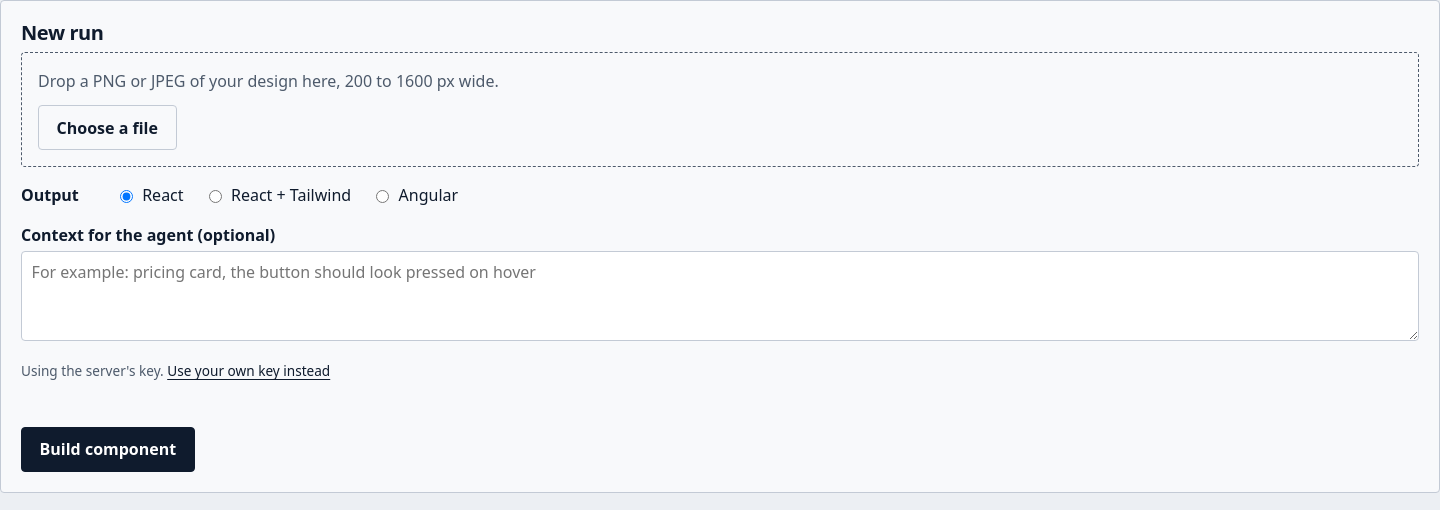
UploadForm › asks for a design before starting
Click the button "Build component" at (108, 449), box x1=21 y1=427 x2=195 y2=472
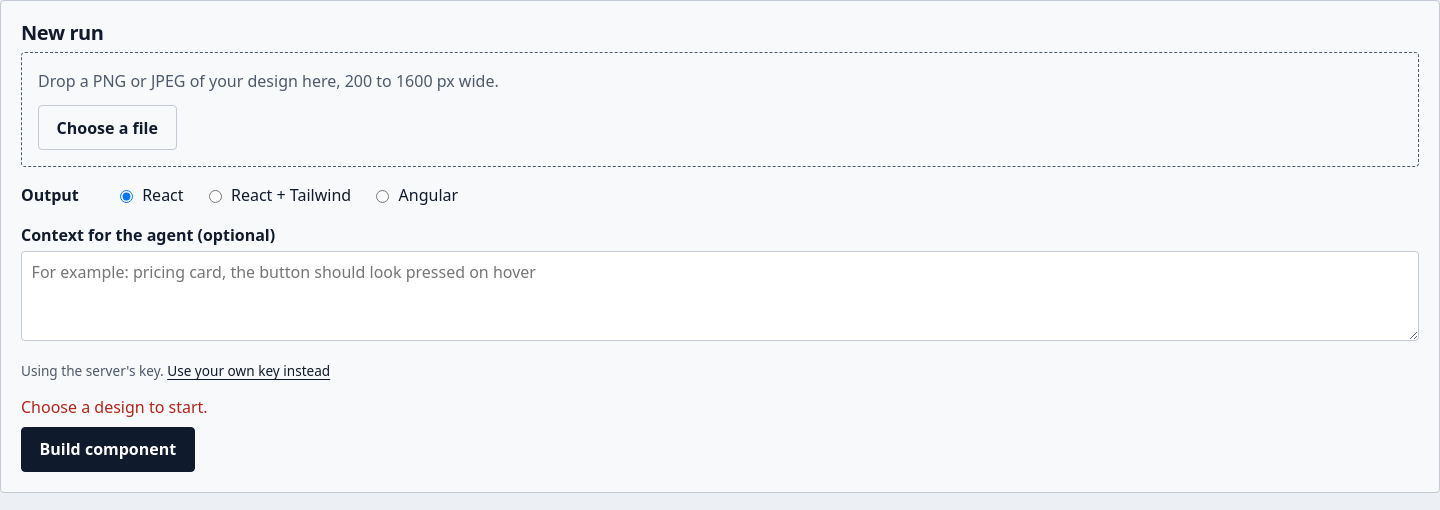
Expected: the message shows "Choose a design", x1=21 y1=396 x2=208 y2=418
